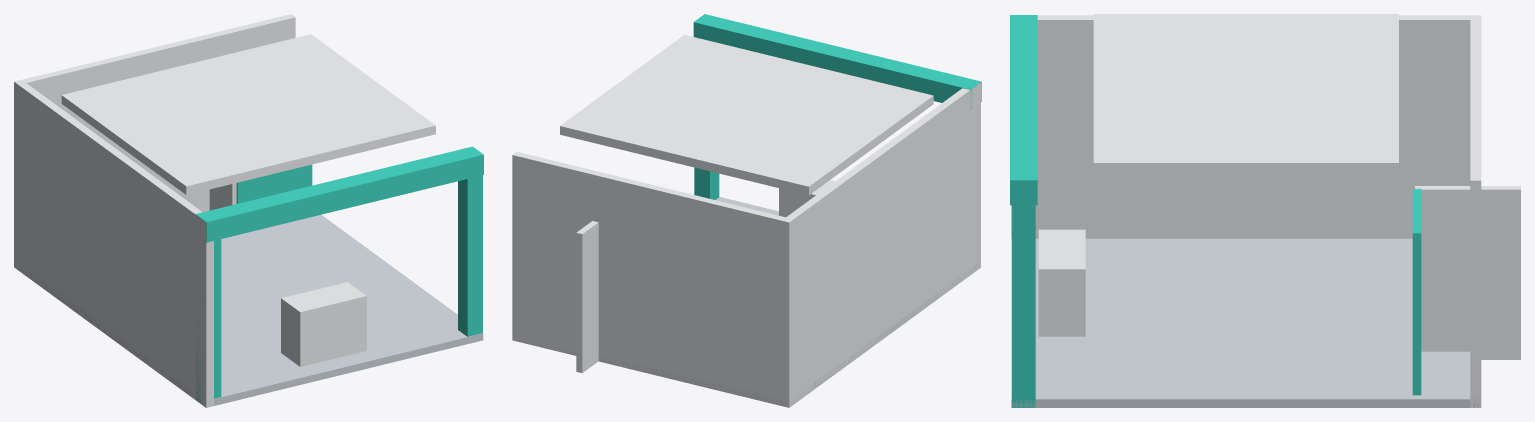
3 views of the same model, side by side, from view 1: azimuth 30°, elevation 25°; view 2: azimuth 150°, elevation 25°; view 3: azimuth 270°, elevation 25° (orthographic). The views are drawn at different scales.
Visible parts, largest first — view 1: Exhibition Booth Concept; view 2: Exhibition Booth Concept; view 3: Exhibition Booth Concept.
Boxes of the visible parts, x1=… form: Exhibition Booth Concept: x1=14, y1=14, x2=483, y2=407; Exhibition Booth Concept: x1=512, y1=14, x2=981, y2=407; Exhibition Booth Concept: x1=1010, y1=14, x2=1520, y2=407.
Size of the model in its own units: 5 by 3.34 by 6.52.
